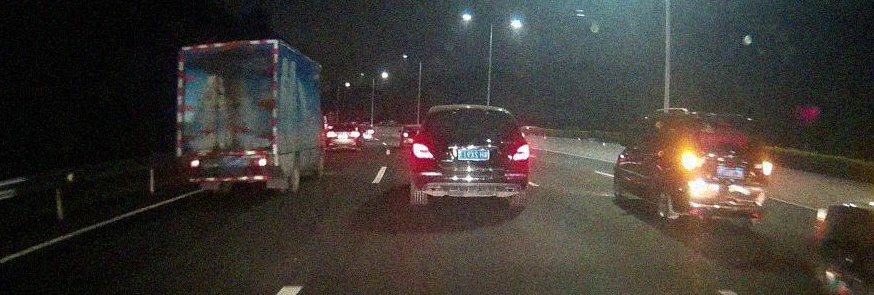L_light: (679, 151, 708, 169), (412, 142, 436, 160), (188, 159, 200, 168), (327, 131, 337, 137)
R_light: (509, 142, 529, 160), (753, 161, 772, 176), (257, 157, 268, 167), (350, 131, 360, 136)
T_light: (464, 109, 482, 113), (221, 46, 239, 50), (712, 116, 728, 120), (339, 123, 346, 124)
night-left: (671, 108, 773, 227)
night-no: (175, 39, 277, 199), (410, 104, 531, 211), (326, 123, 361, 153)
